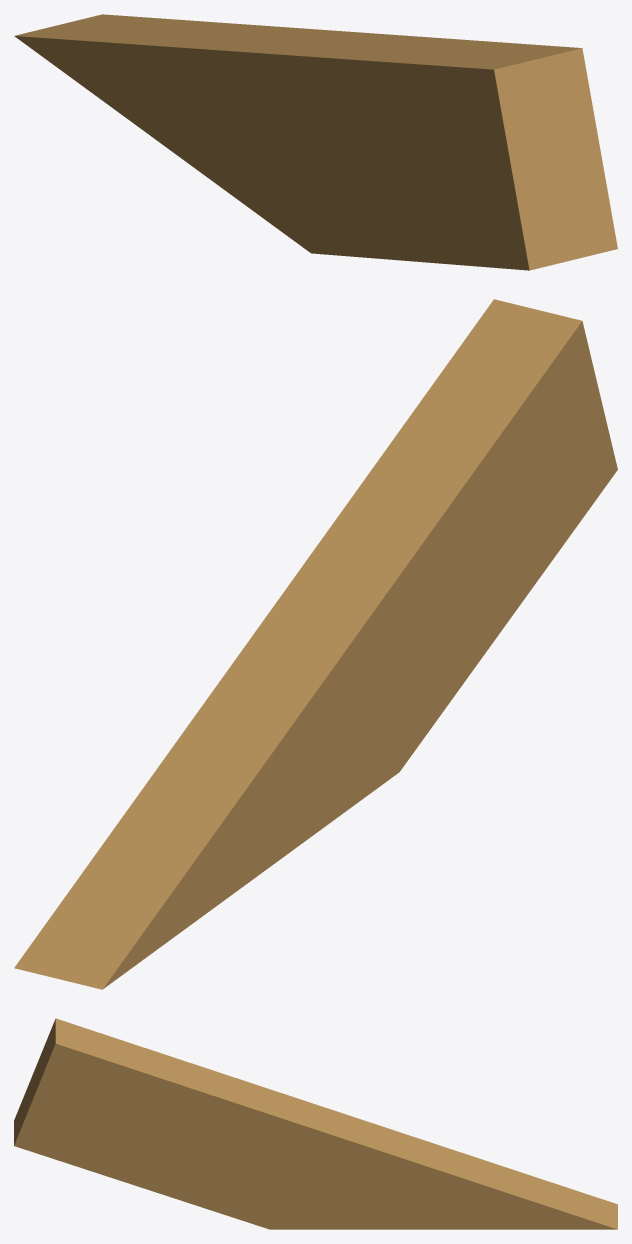
The picture shows the model from 3 angles, top to bottom: view 1: azimuth 30°, elevation 25°; view 2: azimuth 150°, elevation 25°; view 3: azimuth 270°, elevation 25°; orthographic projection. The views are drawn at different scales.
Parts seen in each view (by area): view 1: L4-6-S2-142-M05; view 2: L4-6-S2-142-M05; view 3: L4-6-S2-142-M05.
Boxes of the visible parts, x1,y1,x2,y2 form: L4-6-S2-142-M05: (14,14,617,270); L4-6-S2-142-M05: (14,299,617,989); L4-6-S2-142-M05: (14,1018,617,1229).
Size of the model in its own units: 0.045 by 0.1544 by 0.4544.
